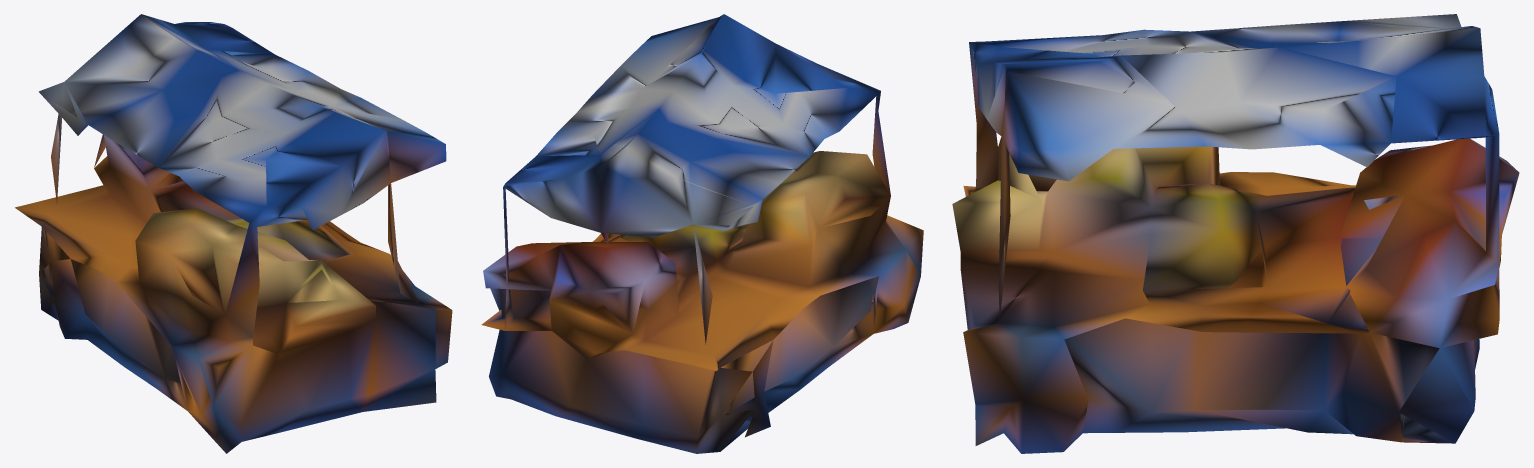
Rendered from st_sweets_lo.glb.
The picture shows the model from 3 angles, left to right: view 1: azimuth 30°, elevation 25°; view 2: azimuth 150°, elevation 25°; view 3: azimuth 270°, elevation 25°; orthographic projection. The views are drawn at different scales.
Visible parts, largest first — view 1: tripo_node_941cd947-ff71-4c95-b88b-e06acbd389dd; view 2: tripo_node_941cd947-ff71-4c95-b88b-e06acbd389dd; view 3: tripo_node_941cd947-ff71-4c95-b88b-e06acbd389dd.
Part boxes in pixels (box(x1,y1,x2,y2)): tripo_node_941cd947-ff71-4c95-b88b-e06acbd389dd: box(15, 14, 452, 453); tripo_node_941cd947-ff71-4c95-b88b-e06acbd389dd: box(481, 14, 923, 453); tripo_node_941cd947-ff71-4c95-b88b-e06acbd389dd: box(952, 14, 1519, 453).
Size of the model in its own units: 0.6602 by 0.6847 by 0.9879.
